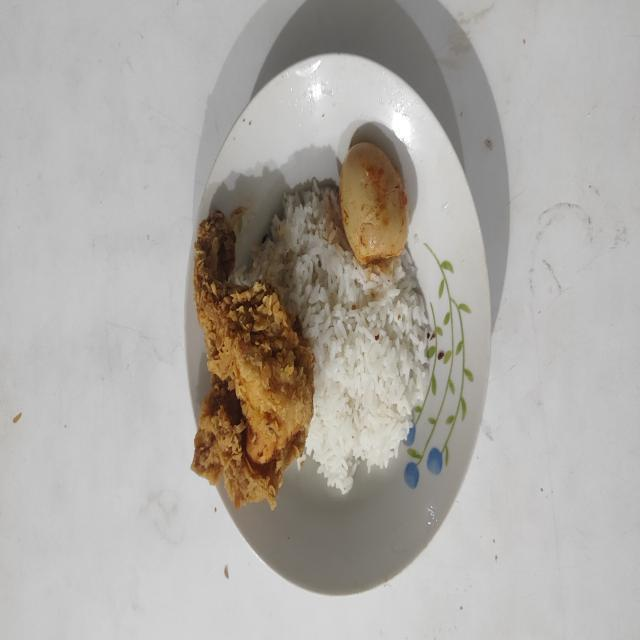nasi_putih: (230, 178, 430, 494)
